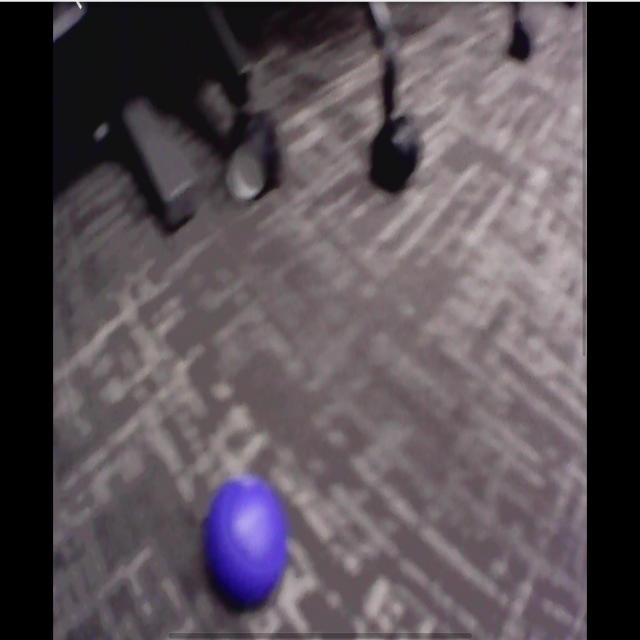ball: (205, 476, 284, 599)
